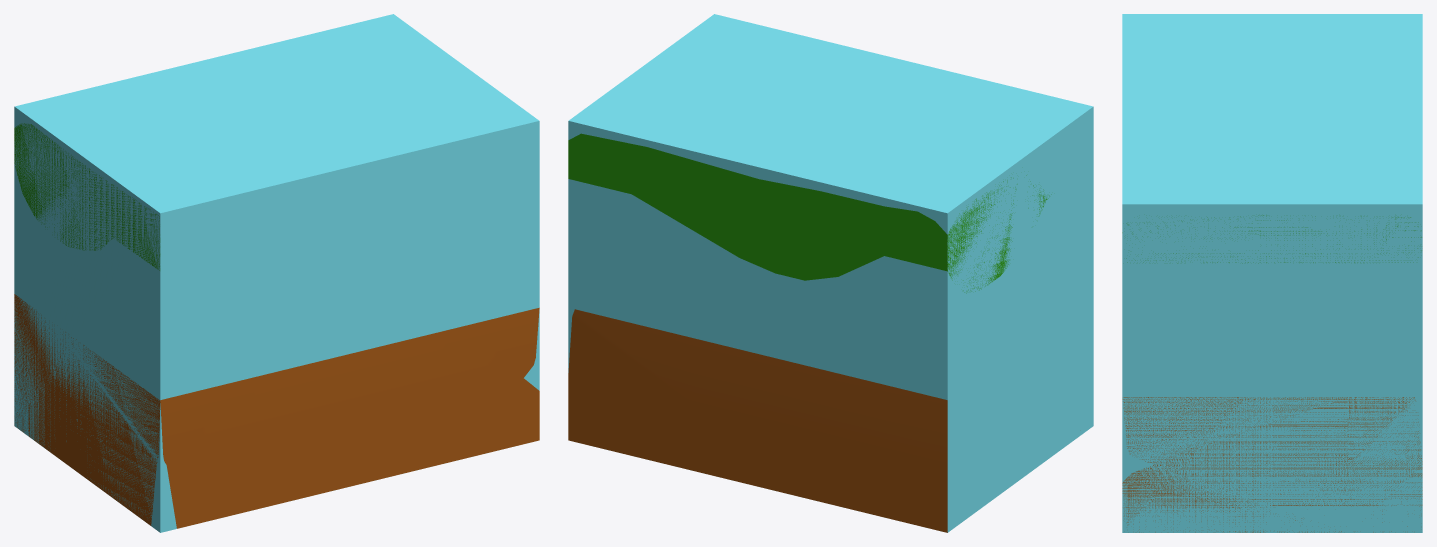
File: PBOX23_Grass_01.FBX
The picture shows the model from 3 angles, left to right: view 1: azimuth 30°, elevation 25°; view 2: azimuth 150°, elevation 25°; view 3: azimuth 270°, elevation 25°; orthographic projection. The views are drawn at different scales.
Parts seen in each view (by area): view 1: PBOX23_Grass_01, PBOX23_SUB_TAB_MUD_01, PBOX23_SUB_Grass_01; view 2: PBOX23_Grass_01, PBOX23_SUB_TAB_MUD_01, PBOX23_SUB_Grass_01; view 3: PBOX23_Grass_01, PBOX23_SUB_TAB_MUD_01, PBOX23_SUB_Grass_01.
Part boxes in pixels (x1,y1,x2,y2): PBOX23_Grass_01: [14, 14, 539, 532]; PBOX23_SUB_TAB_MUD_01: [14, 294, 539, 528]; PBOX23_SUB_Grass_01: [14, 123, 160, 270]; PBOX23_Grass_01: [568, 14, 1093, 532]; PBOX23_SUB_TAB_MUD_01: [568, 309, 947, 532]; PBOX23_SUB_Grass_01: [568, 133, 1051, 293]; PBOX23_Grass_01: [1122, 14, 1422, 532]; PBOX23_SUB_TAB_MUD_01: [1122, 397, 1422, 532]; PBOX23_SUB_Grass_01: [1122, 215, 1421, 263].
Size of the model in its own units: 18 by 14.5 by 12.
